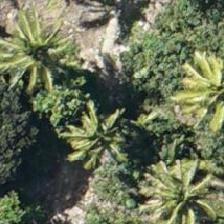coconut_tree: (46, 88, 136, 178), (0, 7, 81, 97), (130, 158, 220, 223)
